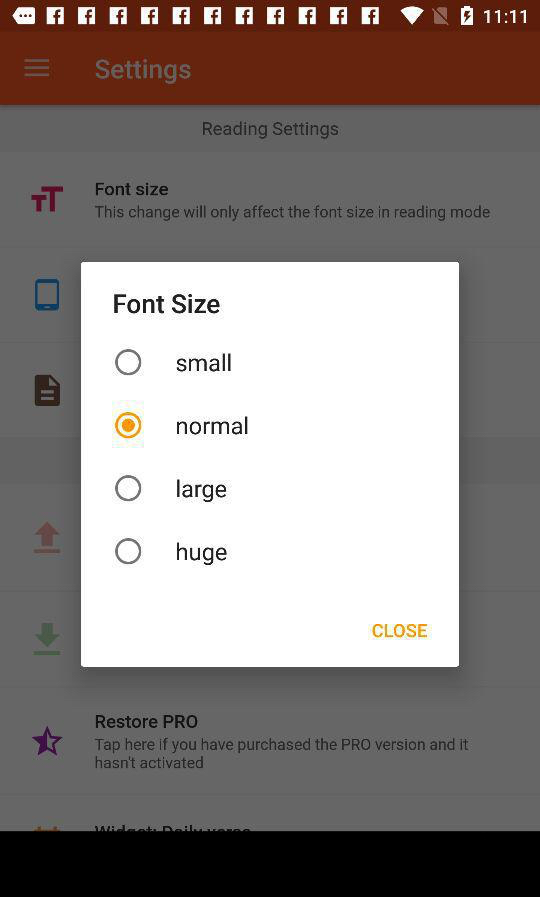CheckedTextView: (115, 411, 249, 440), (115, 349, 233, 377), (115, 474, 228, 503), (115, 537, 228, 566)
Icon: (33, 622, 62, 657), (33, 726, 64, 757), (35, 375, 62, 408), (34, 521, 61, 554), (24, 59, 51, 78)
Image: (34, 279, 61, 313), (31, 187, 64, 214)
Modal: (81, 262, 459, 668)
Text: (94, 738, 468, 769), (94, 205, 490, 223), (95, 58, 192, 86), (202, 121, 339, 140), (114, 294, 221, 315), (96, 714, 199, 729), (177, 416, 249, 436), (176, 541, 228, 566), (177, 478, 228, 503), (177, 352, 233, 373), (96, 182, 170, 197), (371, 623, 429, 639)
UpperTaskBar: (1, 1, 540, 33)
